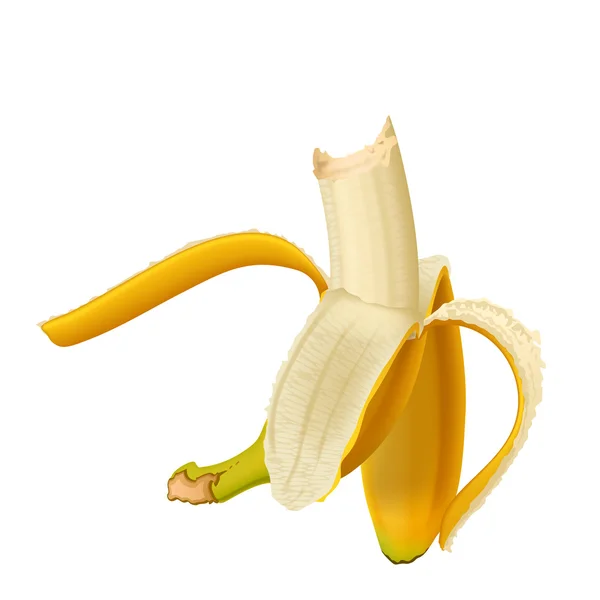banana: (31, 123, 558, 573)
